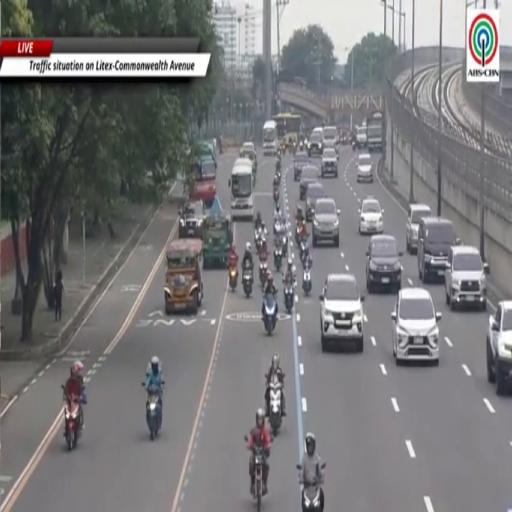bus: (229, 158, 254, 220), (273, 114, 302, 147), (262, 121, 278, 155)
car: (391, 287, 441, 365), (319, 274, 364, 351), (445, 246, 488, 310), (417, 217, 459, 282), (487, 300, 511, 395), (366, 235, 402, 293), (312, 198, 340, 247), (406, 204, 431, 253), (179, 201, 204, 238), (305, 181, 327, 222), (359, 197, 383, 234), (300, 165, 320, 200), (321, 149, 338, 178), (240, 142, 257, 171), (294, 152, 310, 182), (357, 153, 373, 183), (308, 131, 322, 157), (323, 126, 337, 150), (356, 126, 366, 149)
jeepney: (165, 239, 203, 314), (203, 215, 232, 268)
motorcycle: (64, 395, 80, 451), (146, 390, 162, 440), (269, 379, 282, 436), (253, 445, 264, 511), (301, 483, 321, 511), (263, 294, 276, 335), (243, 267, 253, 297), (284, 283, 294, 313), (302, 265, 311, 296), (229, 266, 238, 291), (259, 261, 267, 289), (255, 229, 264, 252), (274, 248, 282, 271), (273, 217, 282, 235), (282, 230, 288, 257), (300, 240, 307, 261), (295, 224, 300, 246), (275, 166, 281, 184), (273, 188, 279, 205), (276, 159, 281, 174), (292, 142, 296, 155), (299, 142, 304, 151), (352, 141, 356, 151)
truck: (190, 142, 217, 211), (366, 111, 383, 152)
